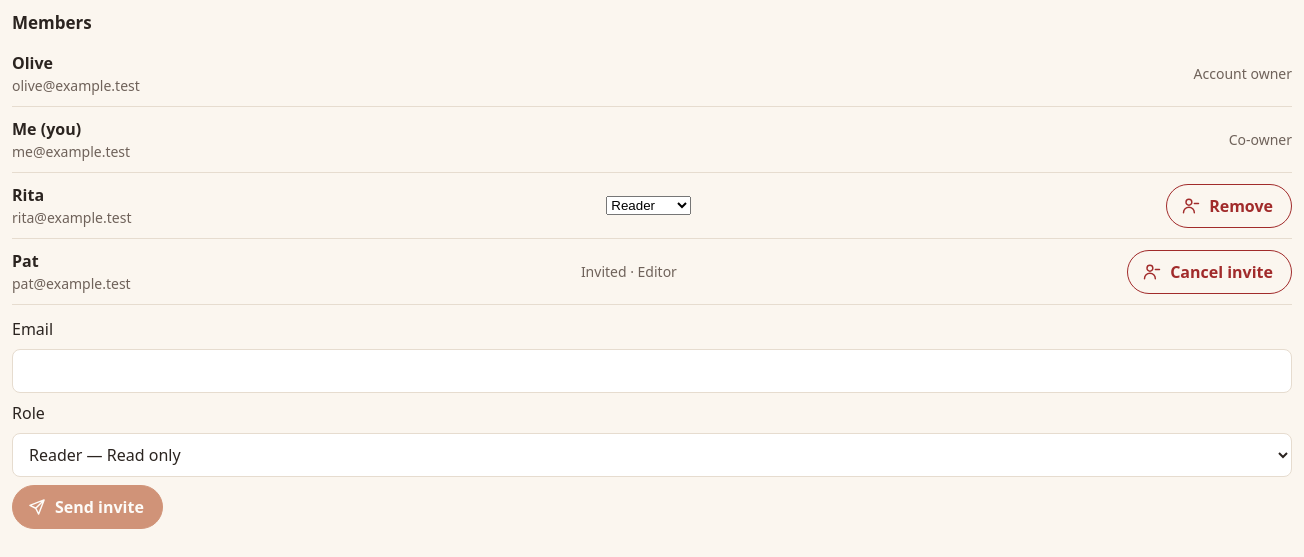
it: MembersSection (D184, D185) › shows a refused role change in the row
Select "Co-owner" in the dropdown named "Role of Rita" at (649, 206), box [606,196,691,215]
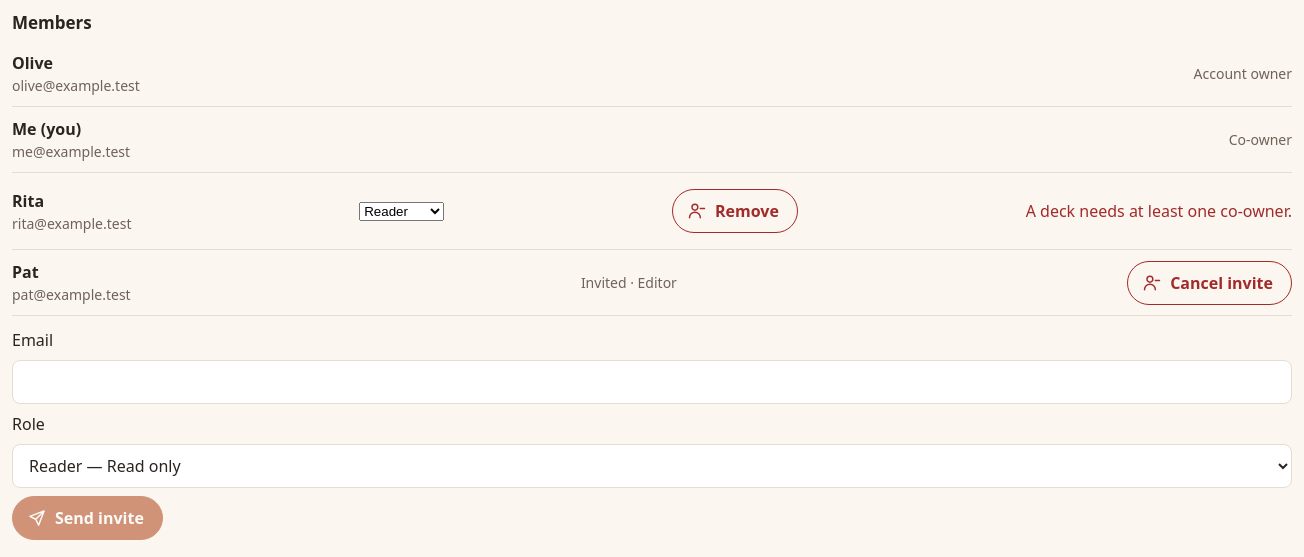
Result: the message shows "at least one co-owner" at [1026,200,1292,222]
